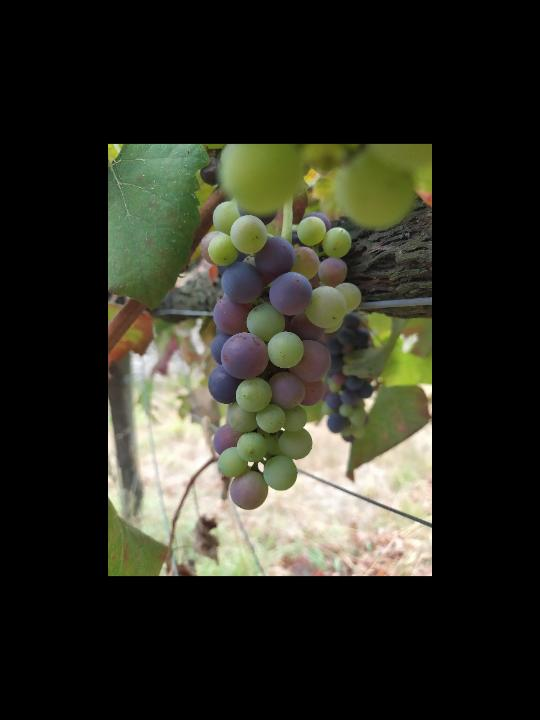grape: (199, 192, 363, 511)
